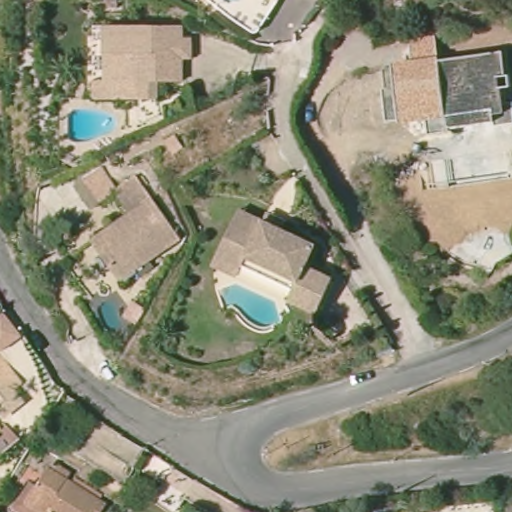pool: (217, 282, 284, 332), (66, 107, 120, 140), (96, 297, 130, 334)
